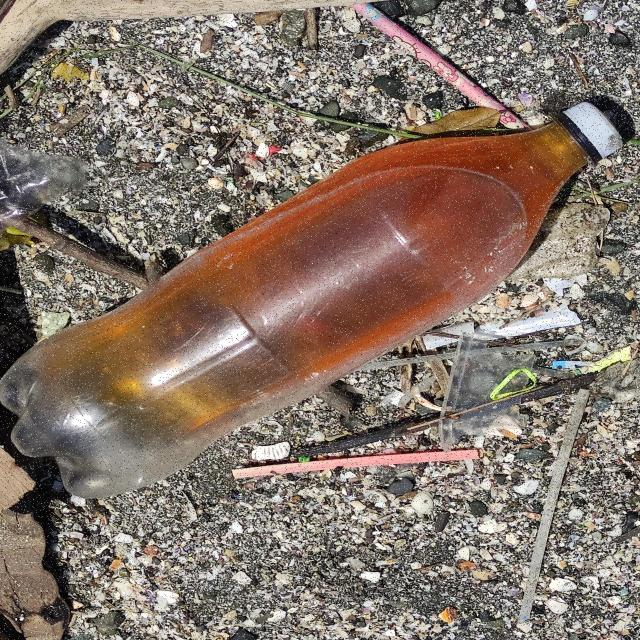plastic_waste: (1, 101, 621, 500), (523, 411, 590, 628)
